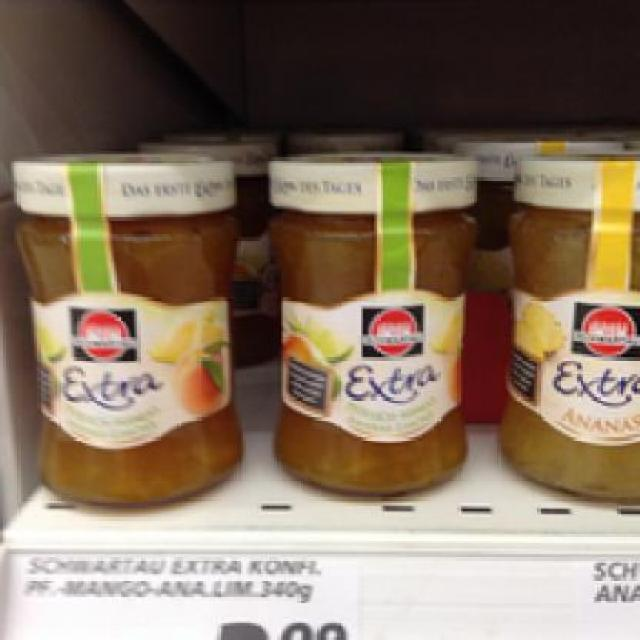Jam: (5, 148, 241, 506), (266, 148, 483, 494), (494, 149, 637, 500)
